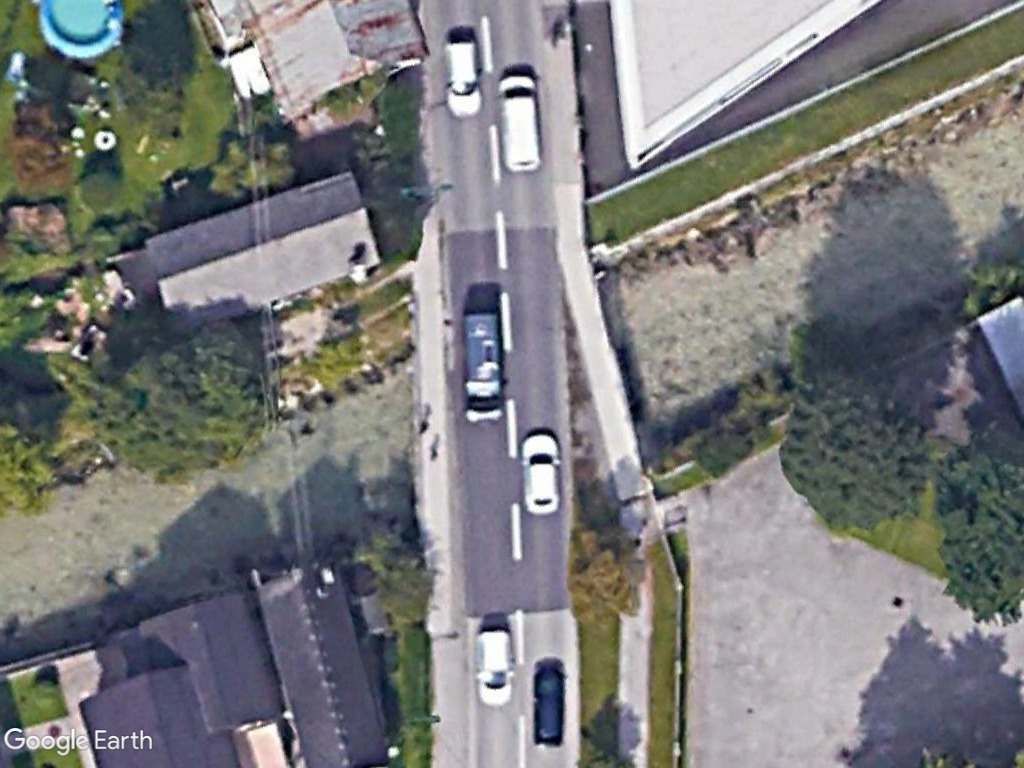car: (515, 421, 568, 519), (438, 33, 489, 122), (473, 621, 518, 712)
van: (457, 306, 509, 427), (493, 68, 541, 178)
